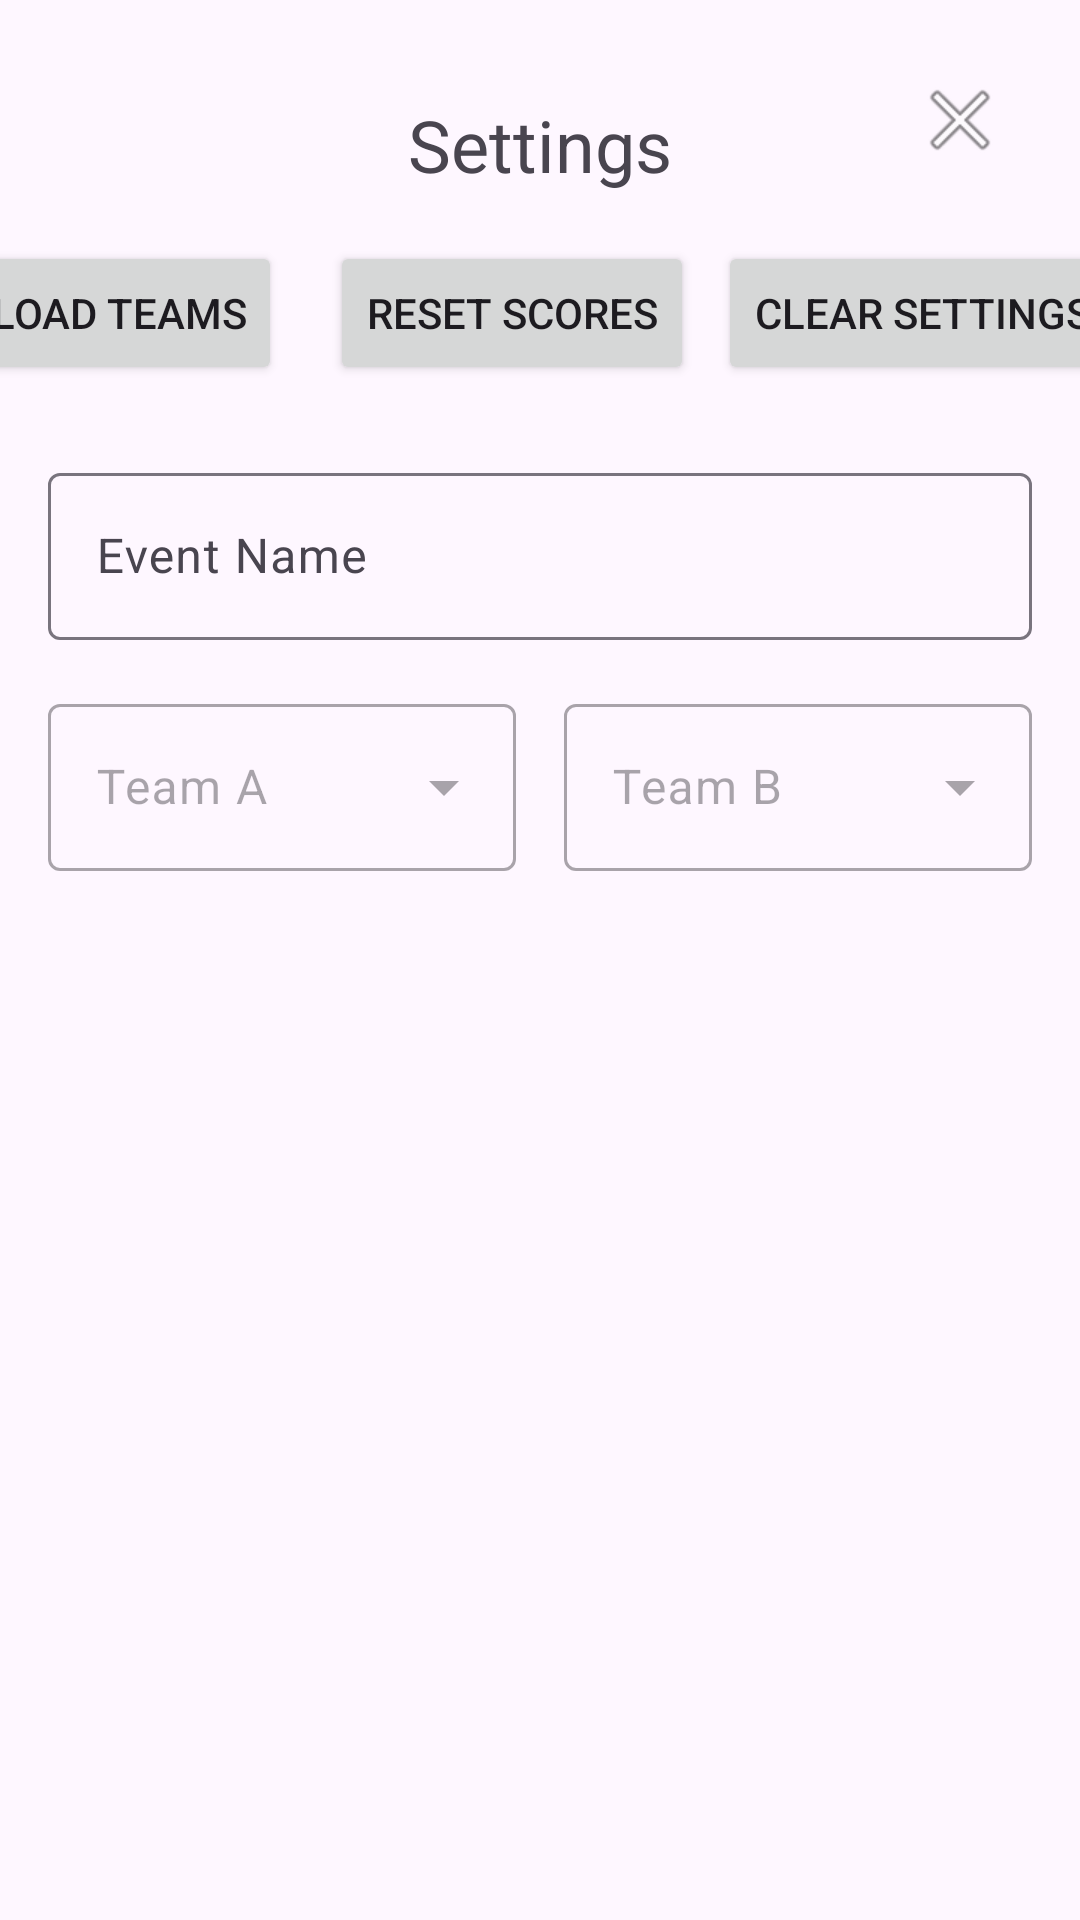

Icon bounding boxes for this 1080w x 1920h phone screenshot, format (x1,y1,x2,y2):
Close Settings: (930,90,990,150)
